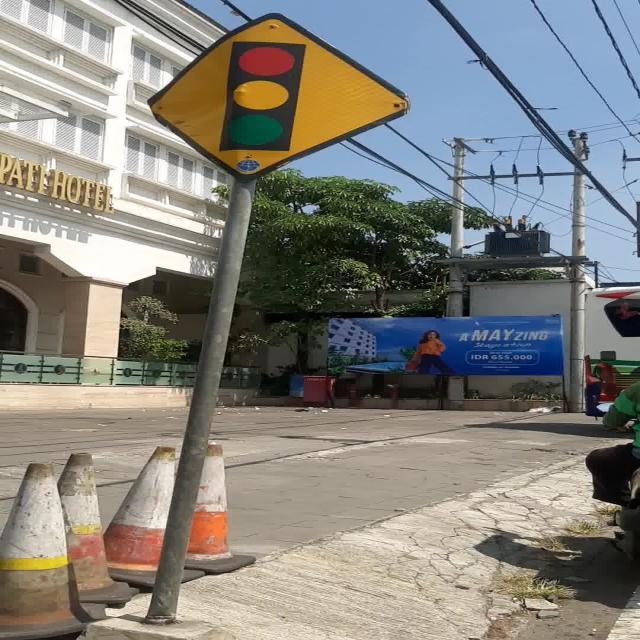Lampu Lalu Lintas: (149, 12, 407, 182)
